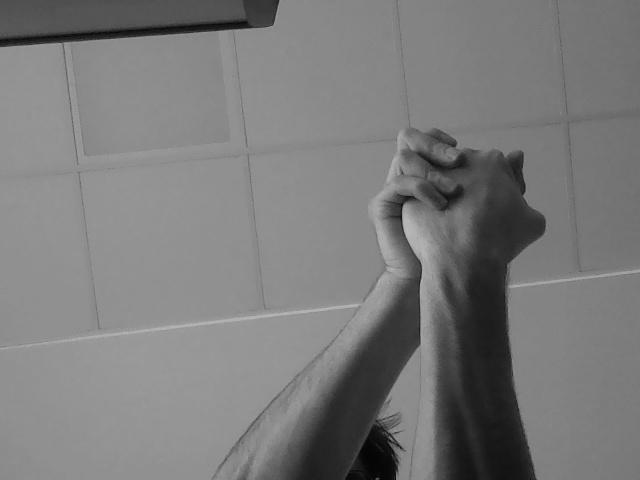friend: (372, 116, 562, 290)
